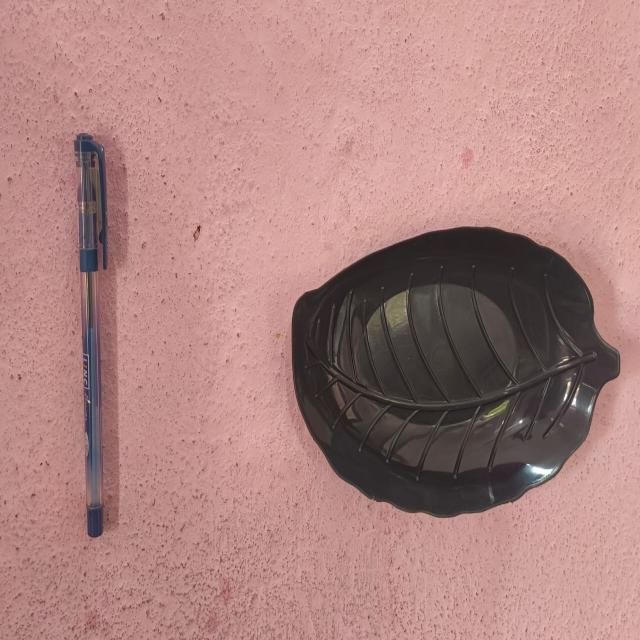blessing_card: (58, 132, 127, 543)
pen: (288, 224, 625, 518)
